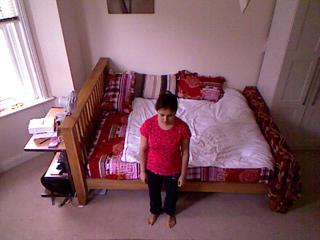FallenBody: (132, 88, 198, 230)
